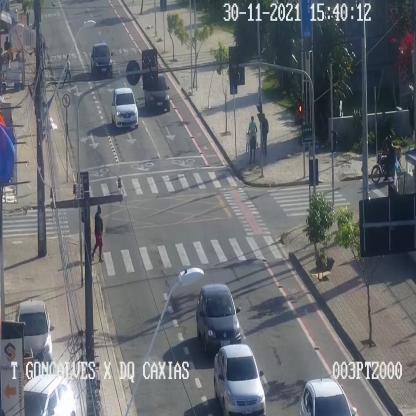car: (212, 344, 266, 416), (196, 282, 242, 350), (16, 298, 56, 366), (24, 374, 80, 416), (300, 377, 356, 415), (112, 88, 140, 130), (145, 73, 171, 113), (91, 43, 115, 77)
motorbike: (372, 134, 402, 182)
person: (91, 204, 104, 263), (247, 114, 259, 164), (63, 56, 72, 88)
